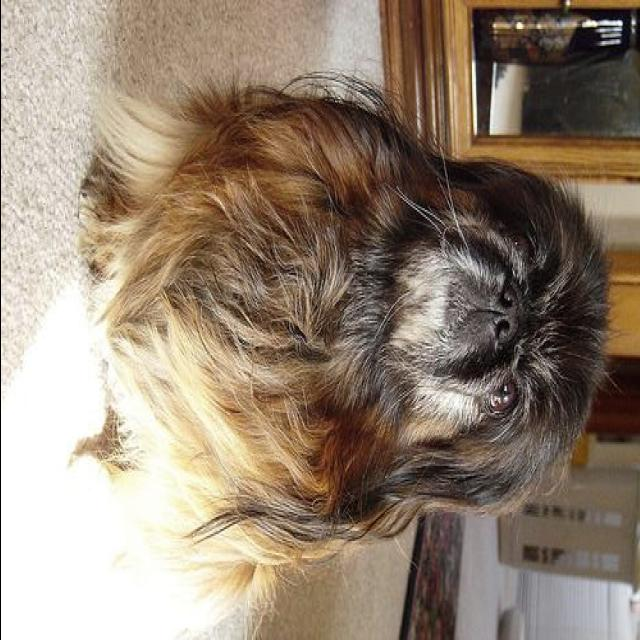pekinese: (60, 64, 613, 636)
